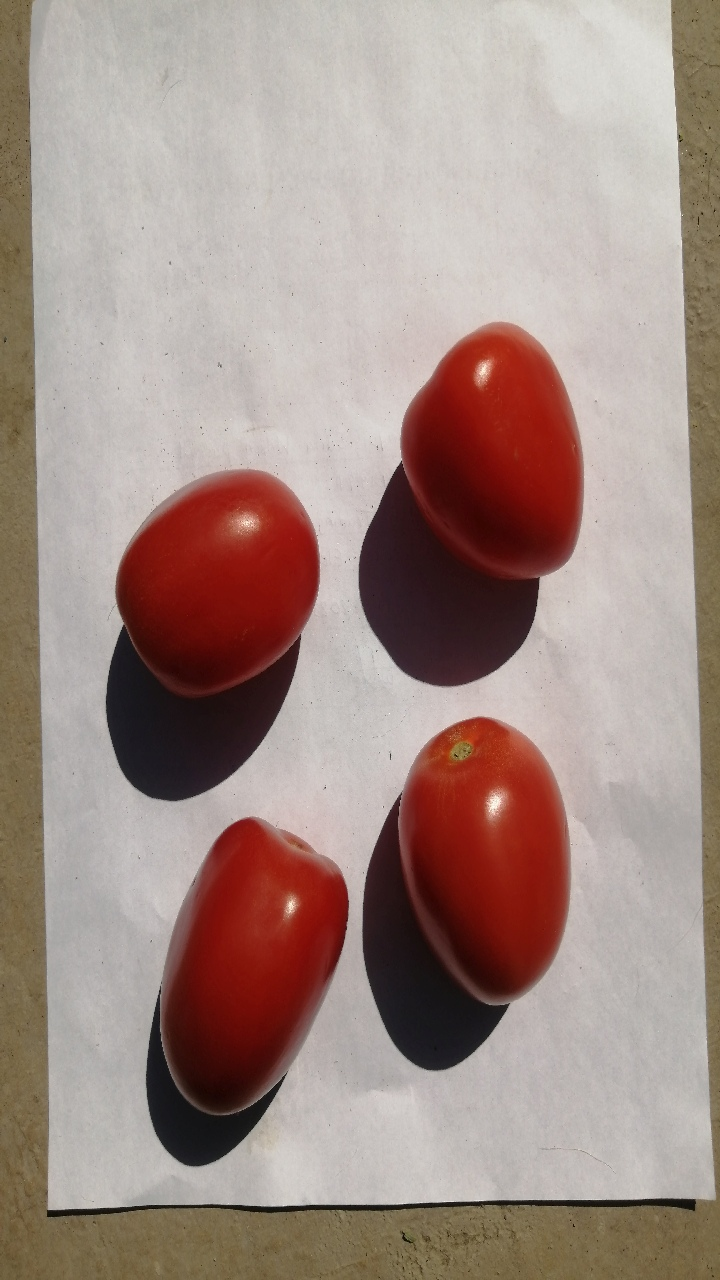tomateRojo: (158, 797, 363, 1145), (91, 439, 341, 720), (383, 288, 606, 603), (374, 706, 571, 1014)
